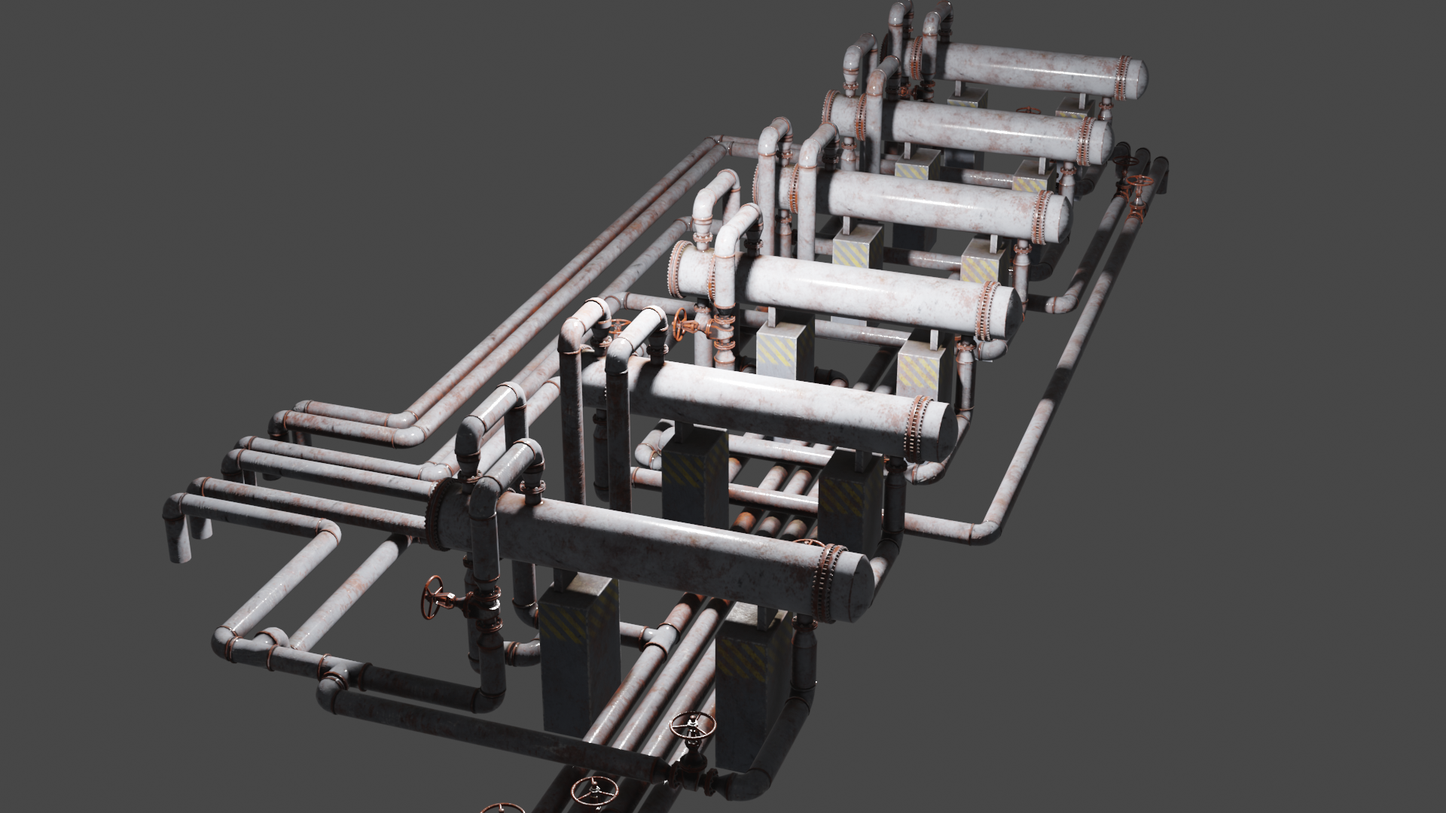HE_1: (884, 33, 1150, 99)
HE_2: (821, 83, 1112, 163)
HE_3: (750, 161, 1066, 244)
HE_4: (670, 238, 1026, 340)
HE_5: (623, 358, 962, 467)
HE_6: (423, 477, 877, 620)
